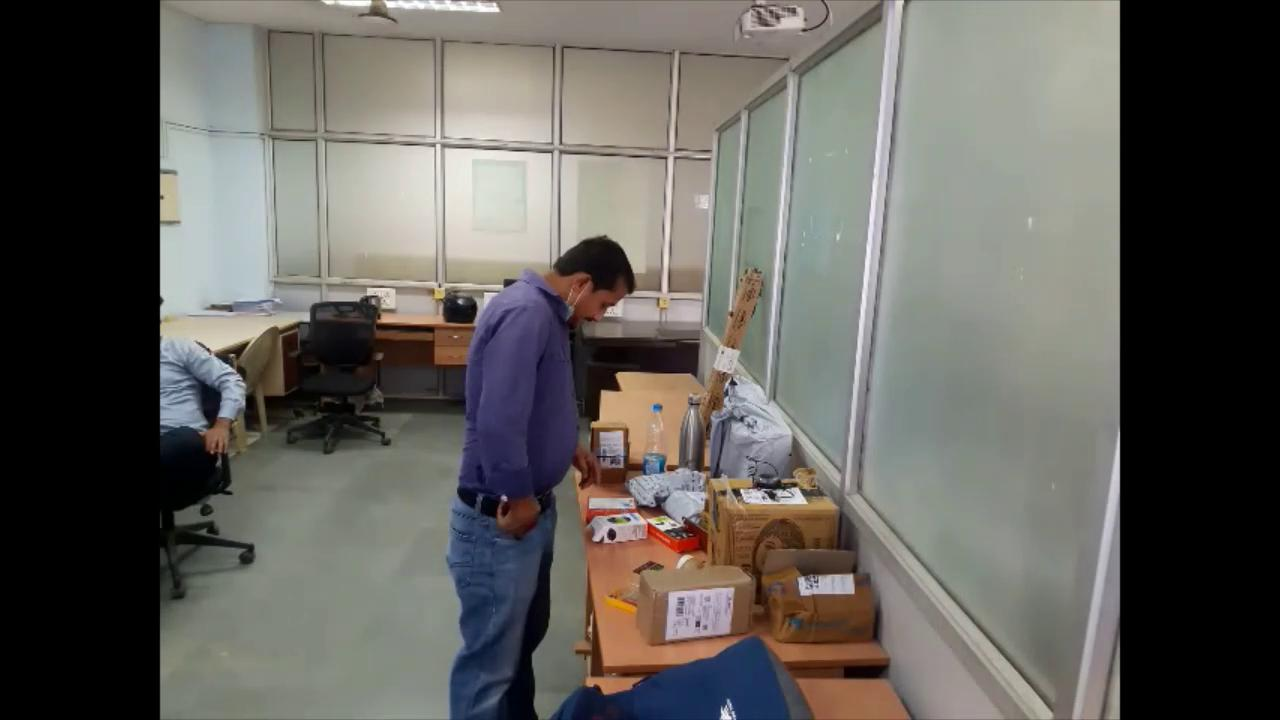shoplifting: (433, 210, 632, 720)
